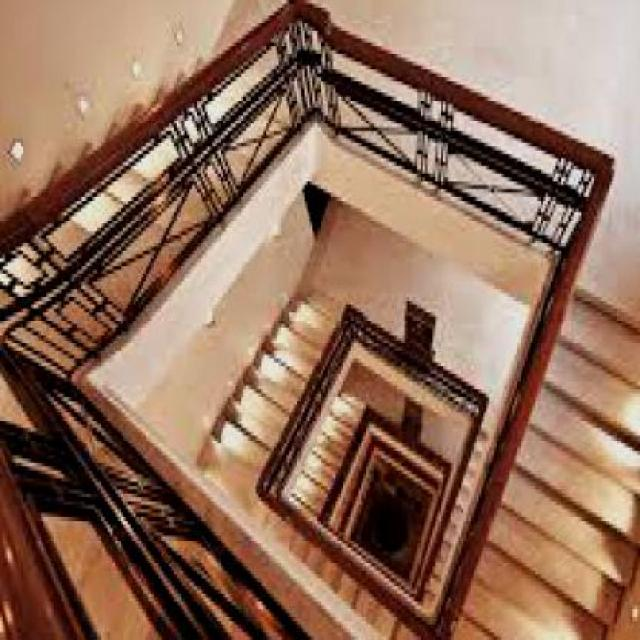stair: (422, 138, 638, 638), (197, 276, 366, 484)
